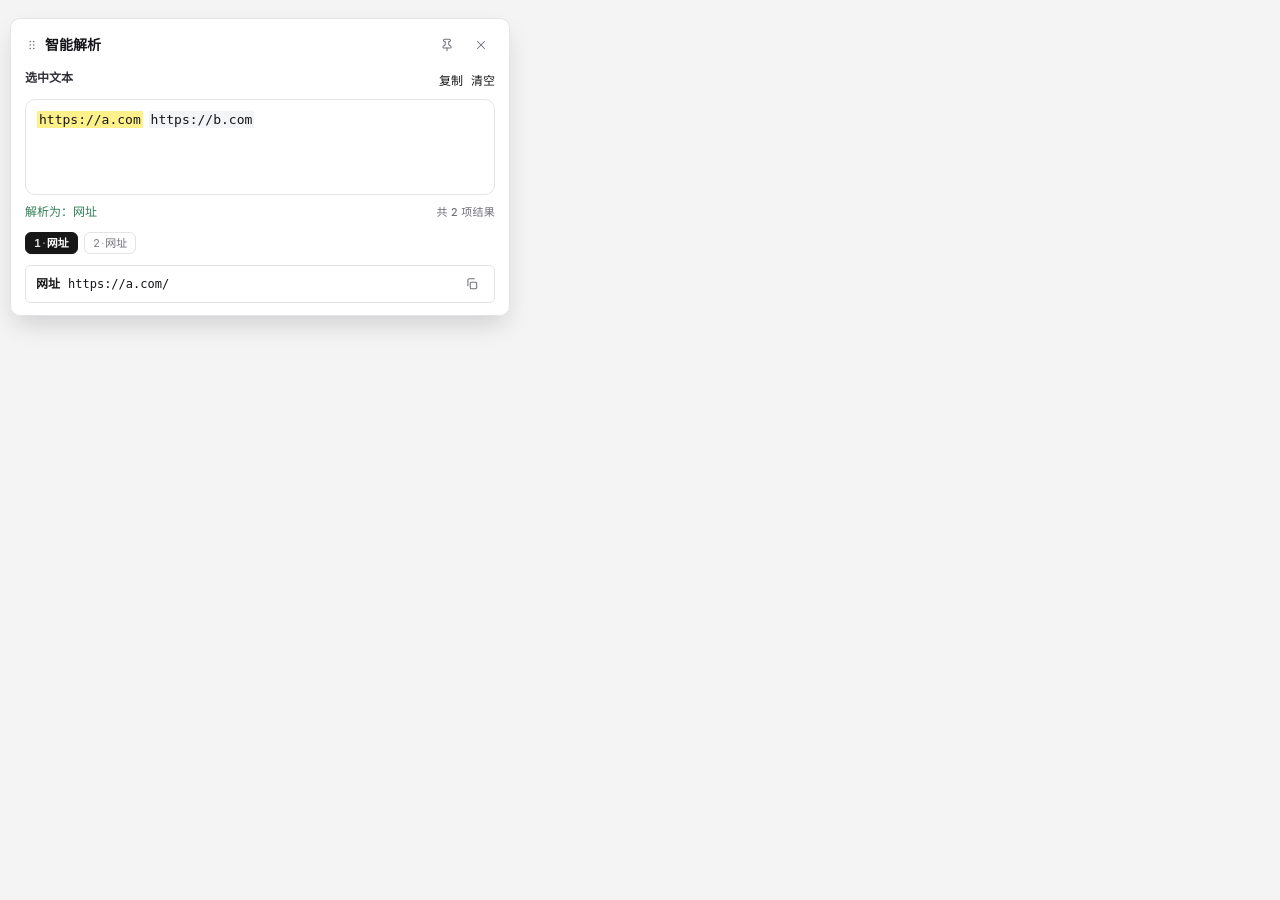
Scenario: SelectionDetectPanel 结果渲染 › 多个可解析结果时渲染结果 Tab 与总数徽标，切换 Tab 后字段跟着切换
The image size is (1280, 900).
Expected: the text with class "tw-detect__field-value" reads "https://a.com/", 68,277 -> 169,291
Click the tab with class "tw-detect__tab" showing "2 · 网址" at coordinates (110, 243), box 84,232 -> 136,254
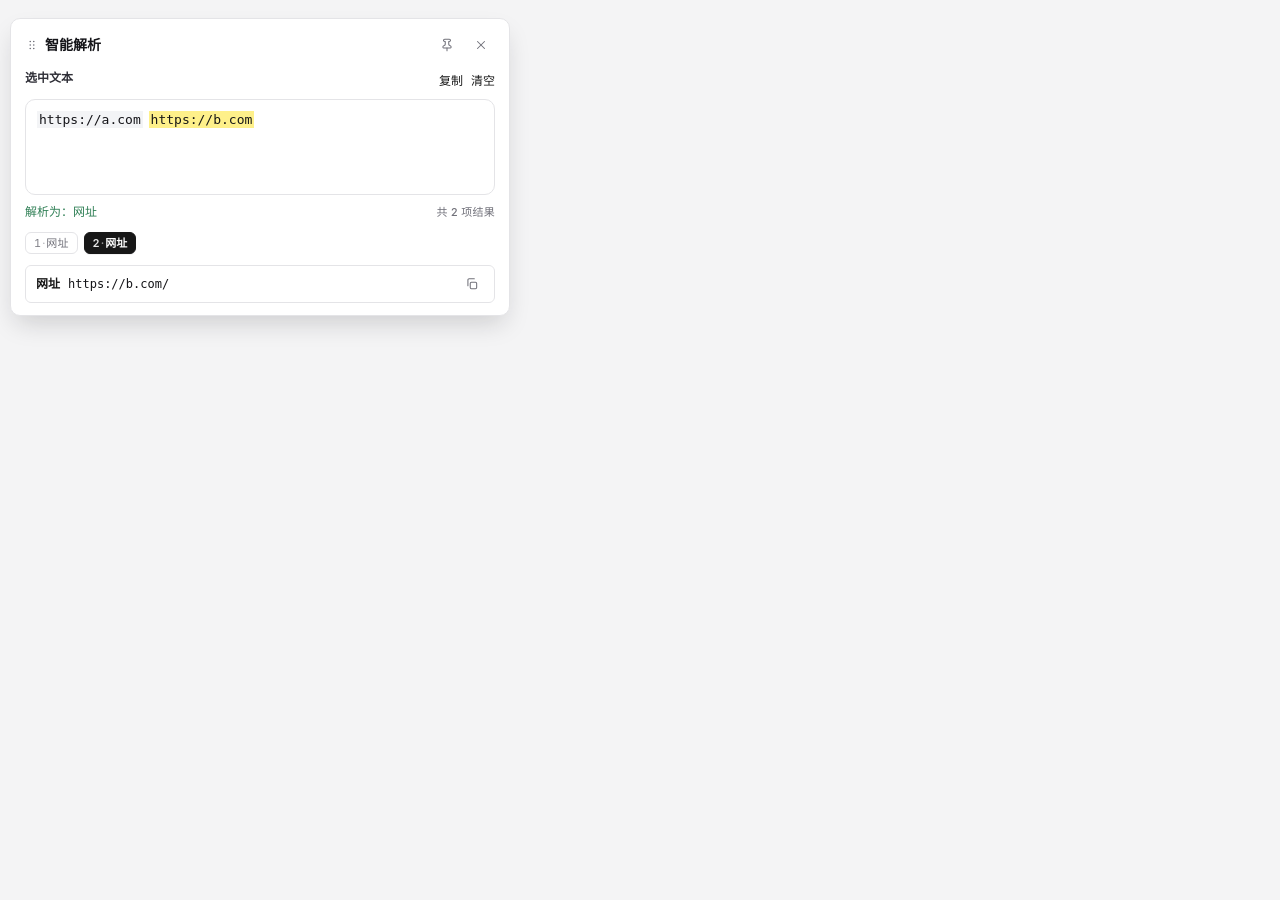
Expected: the text with class "tw-detect__field-value" reads "https://b.com/", 68,277 -> 169,291
